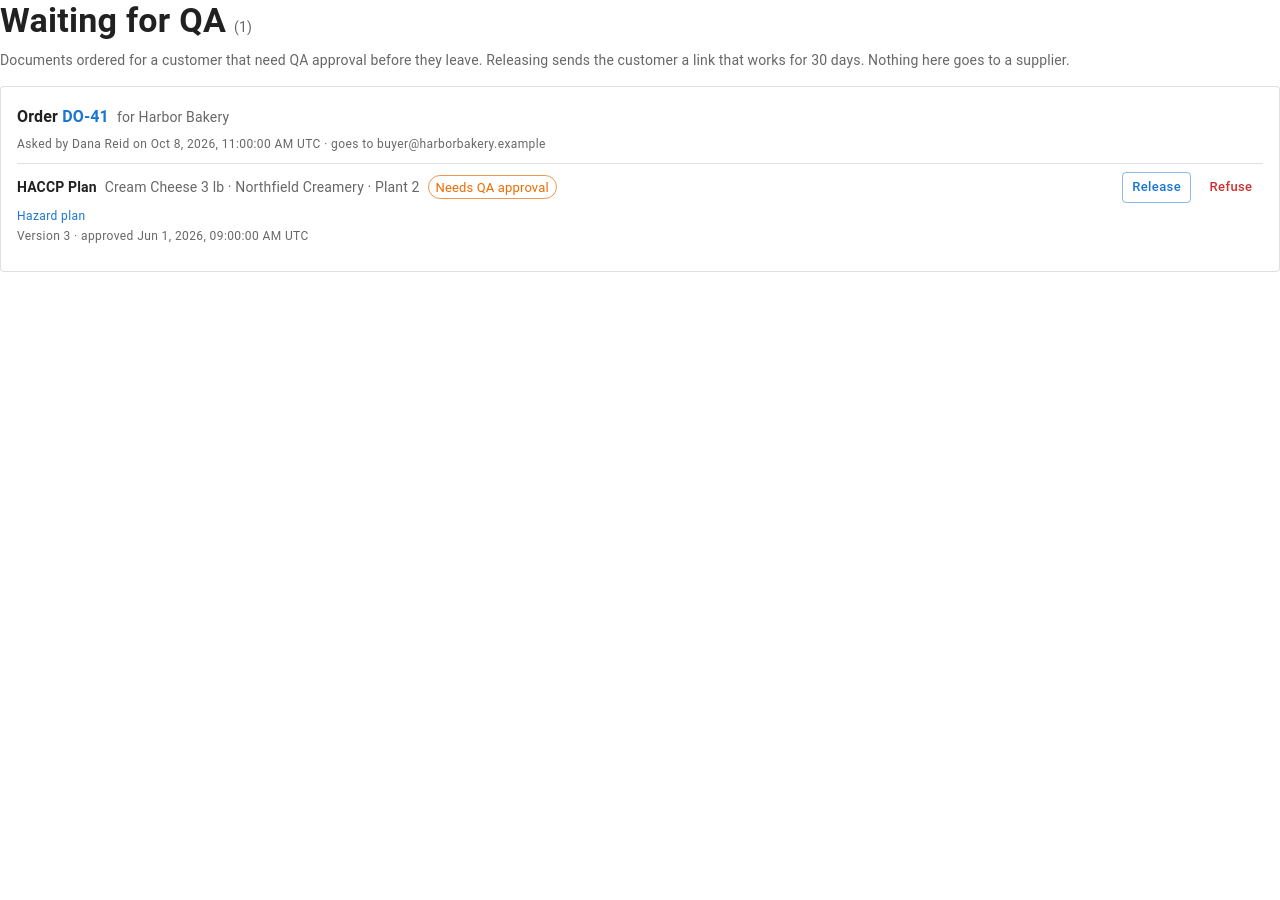
Test: OrdersWaitingForQa › a line that changed since the list was opened is said, and the list reloads
What coordinates should you click on to do the following:
click the button with test id "waiting-release"
I would click on:
 (1157, 187)
Its box is top-left (1122, 172), bottom-right (1191, 203).
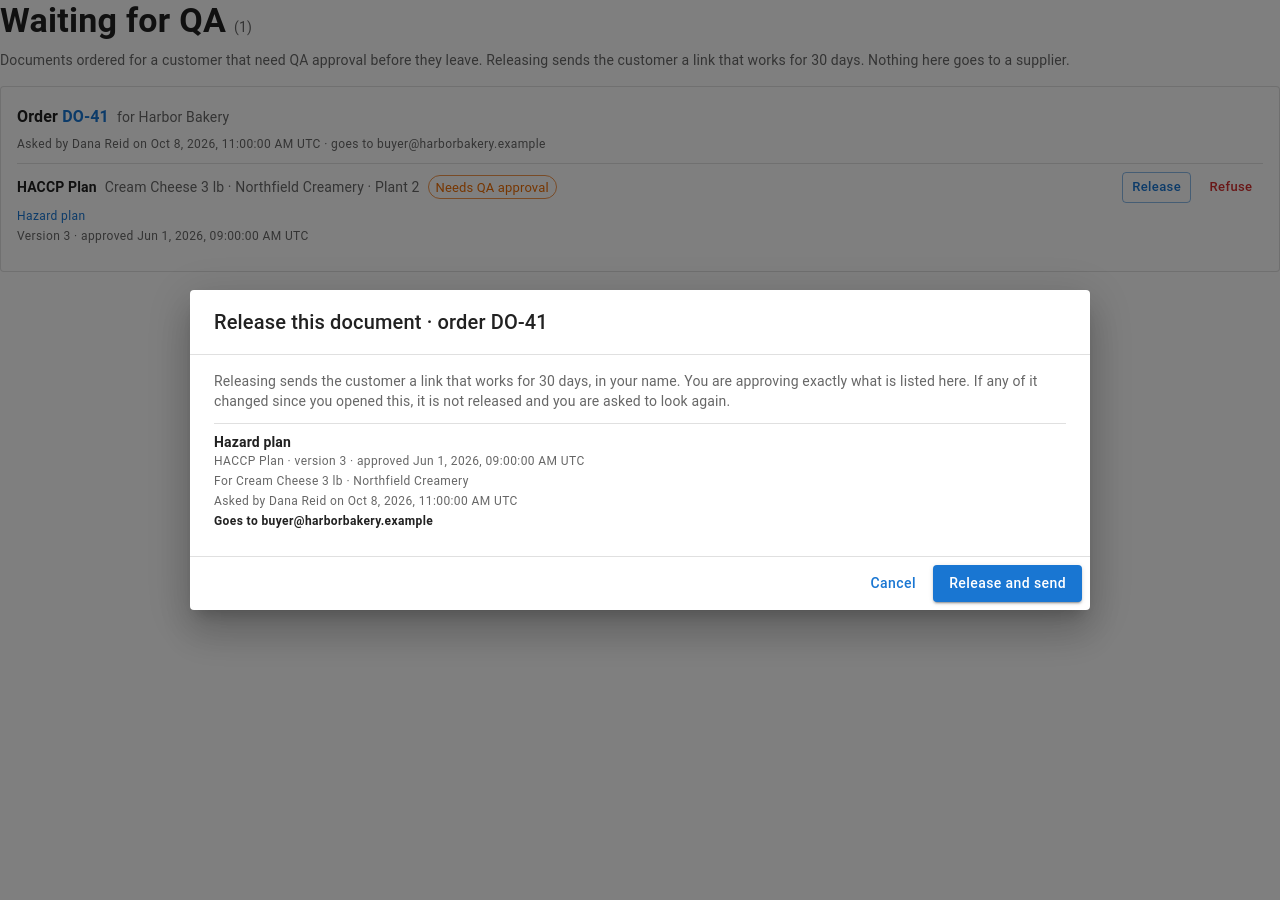
What coordinates should you click on to do the following:
click the button with test id "release-confirm"
I would click on:
 (1008, 583)
Its box is top-left (933, 565), bottom-right (1082, 602).
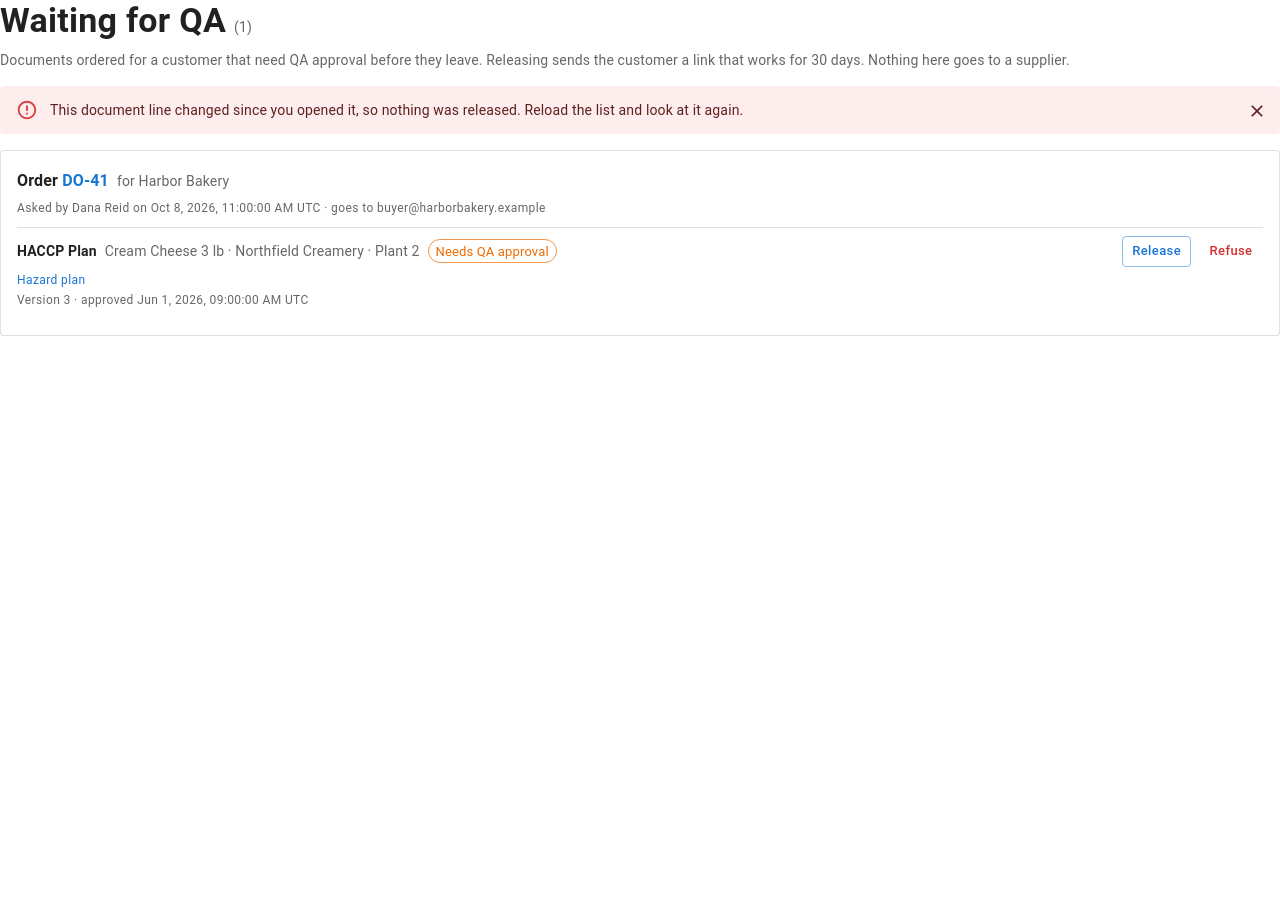
expect the text "changed since you opened it" is shown: met, box top-left (50, 102), bottom-right (743, 118)
